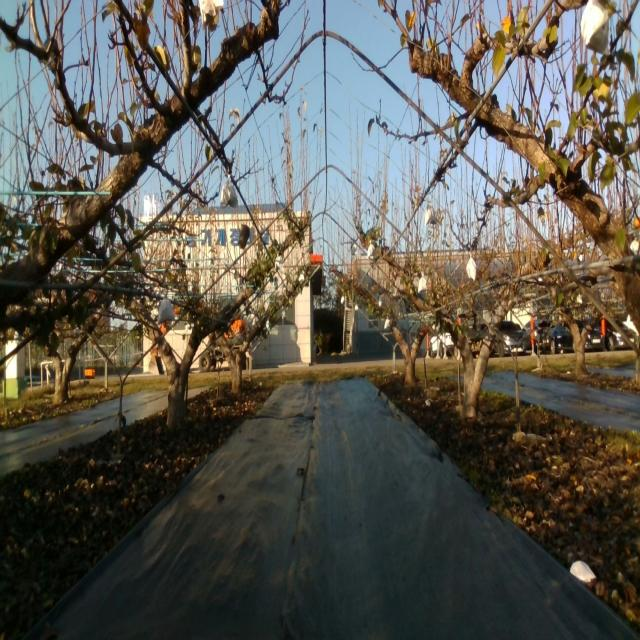pearbags: (580, 0, 611, 58), (219, 173, 239, 210), (156, 294, 173, 325), (424, 201, 437, 226), (466, 252, 476, 282)
